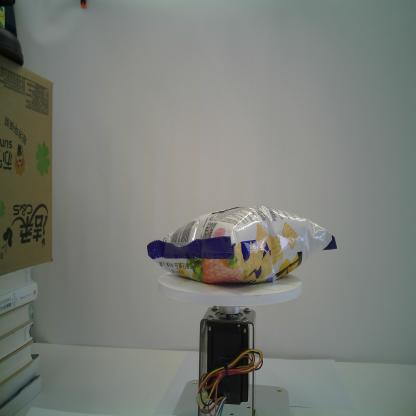Puffed Food: (146, 200, 340, 287)
